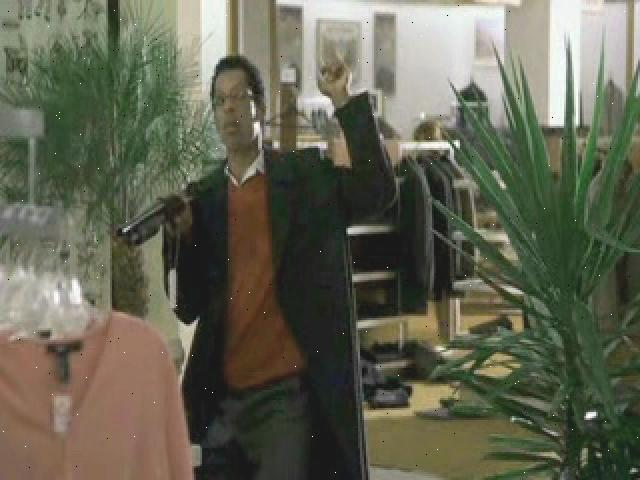L: (117, 52, 401, 478)
